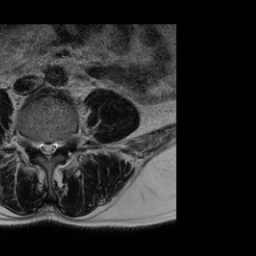CCS_stenosis: (45, 134, 51, 165)
LFS_normal: (59, 132, 67, 154)
LLS_normal: (51, 134, 59, 159)
RFS_normal: (29, 132, 37, 156)
RLS_stenosis: (37, 133, 45, 158)
